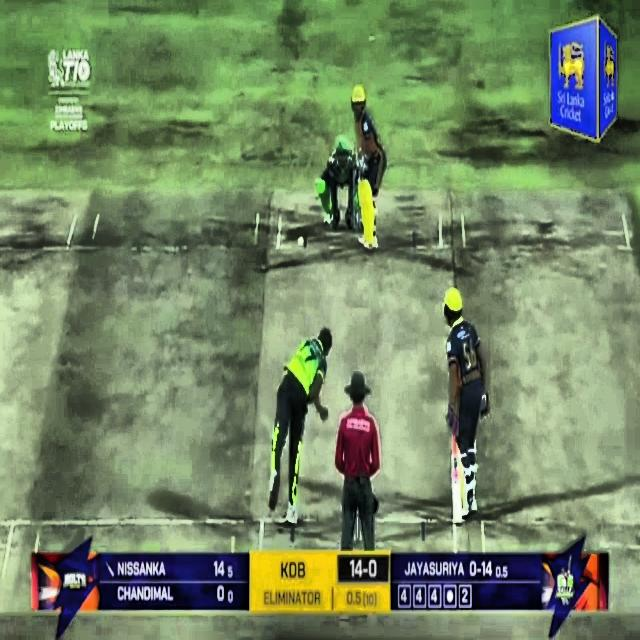Left-stump: (352, 169, 355, 232)
Middle-stump: (358, 202, 360, 233)
